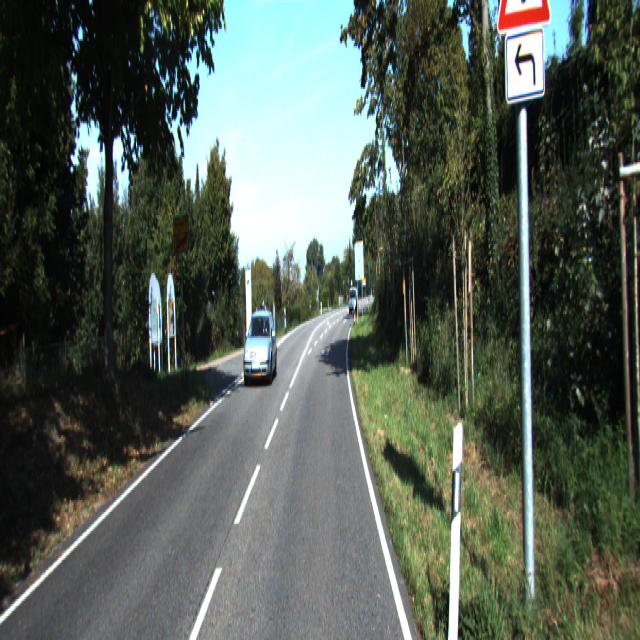Car: (242, 309, 278, 387)
